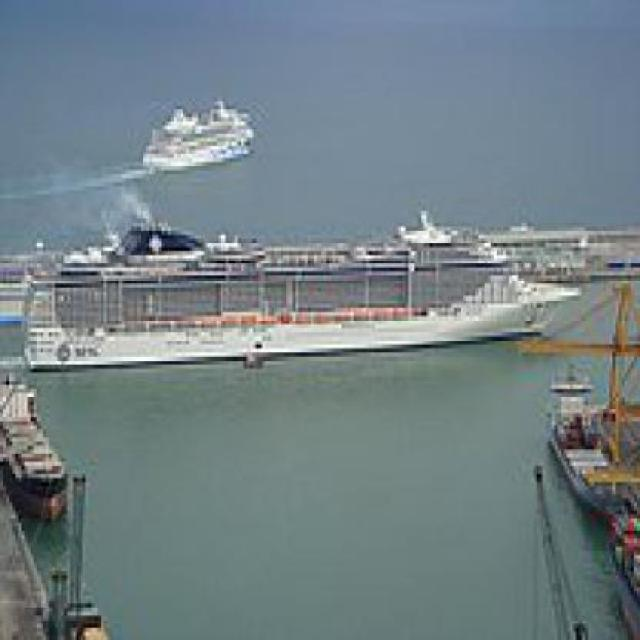cruise: (22, 200, 589, 371), (138, 87, 266, 184)
